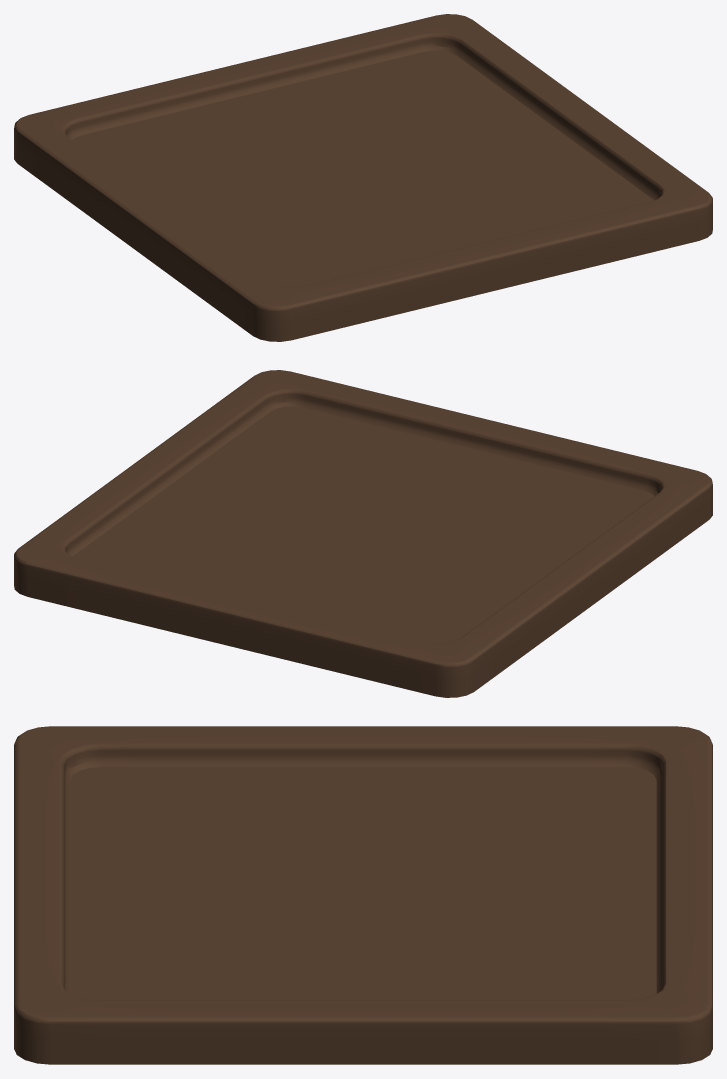
File: Board_Frame.fbx
3 renders of one model, top to bottom at view 1: azimuth 30°, elevation 25°; view 2: azimuth 150°, elevation 25°; view 3: azimuth 270°, elevation 25°, orthographic. The views are drawn at different scales.
Parts seen in each view (by area): view 1: Board_Frame; view 2: Board_Frame; view 3: Board_Frame.
Boxes of the visible parts, <box> form: Board_Frame: <box>14,14,712,341</box>; Board_Frame: <box>14,370,712,697</box>; Board_Frame: <box>14,726,712,1064</box>.
Bounding box in the file's own units: 152 × 10.8 × 152.
